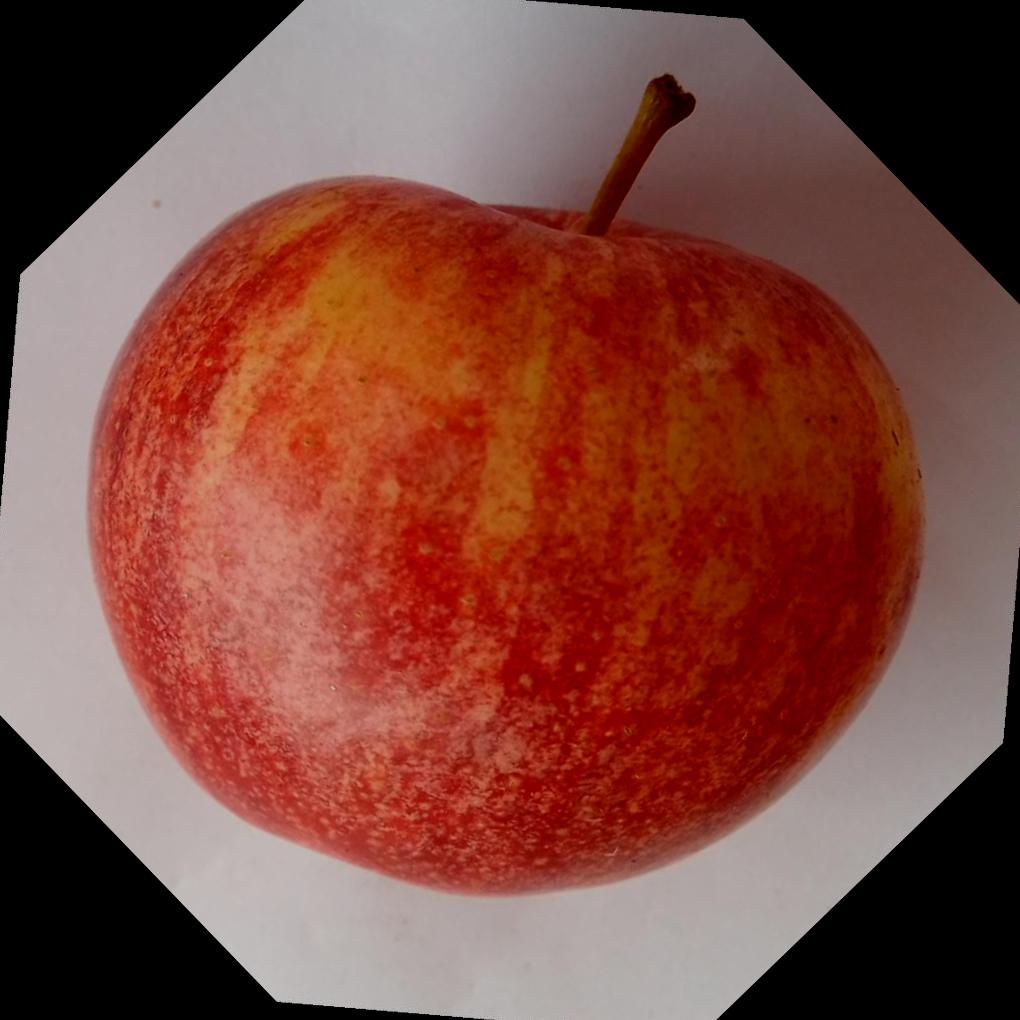FreshGuava: (78, 166, 924, 901)
